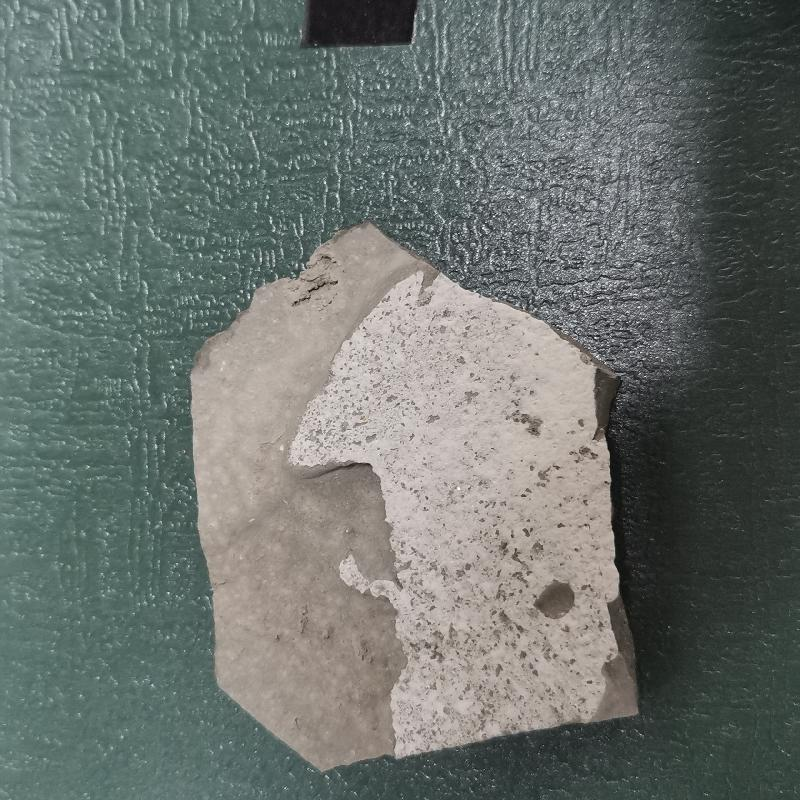tile: (171, 221, 648, 769)
